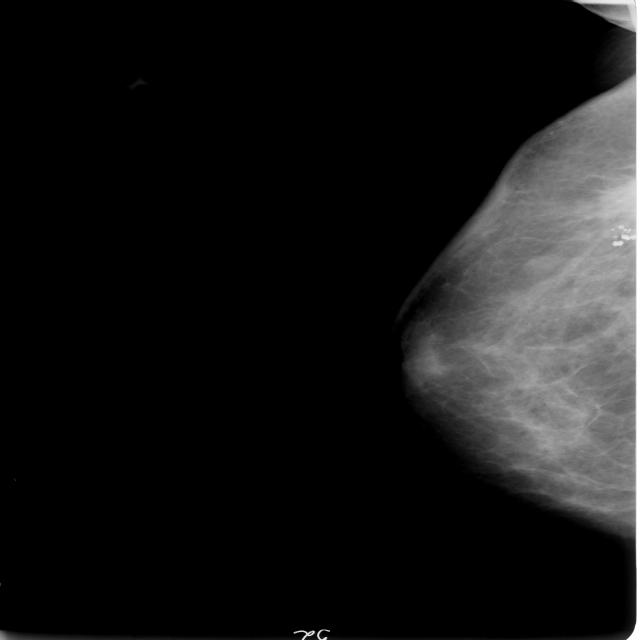normal: (387, 63, 640, 545)
